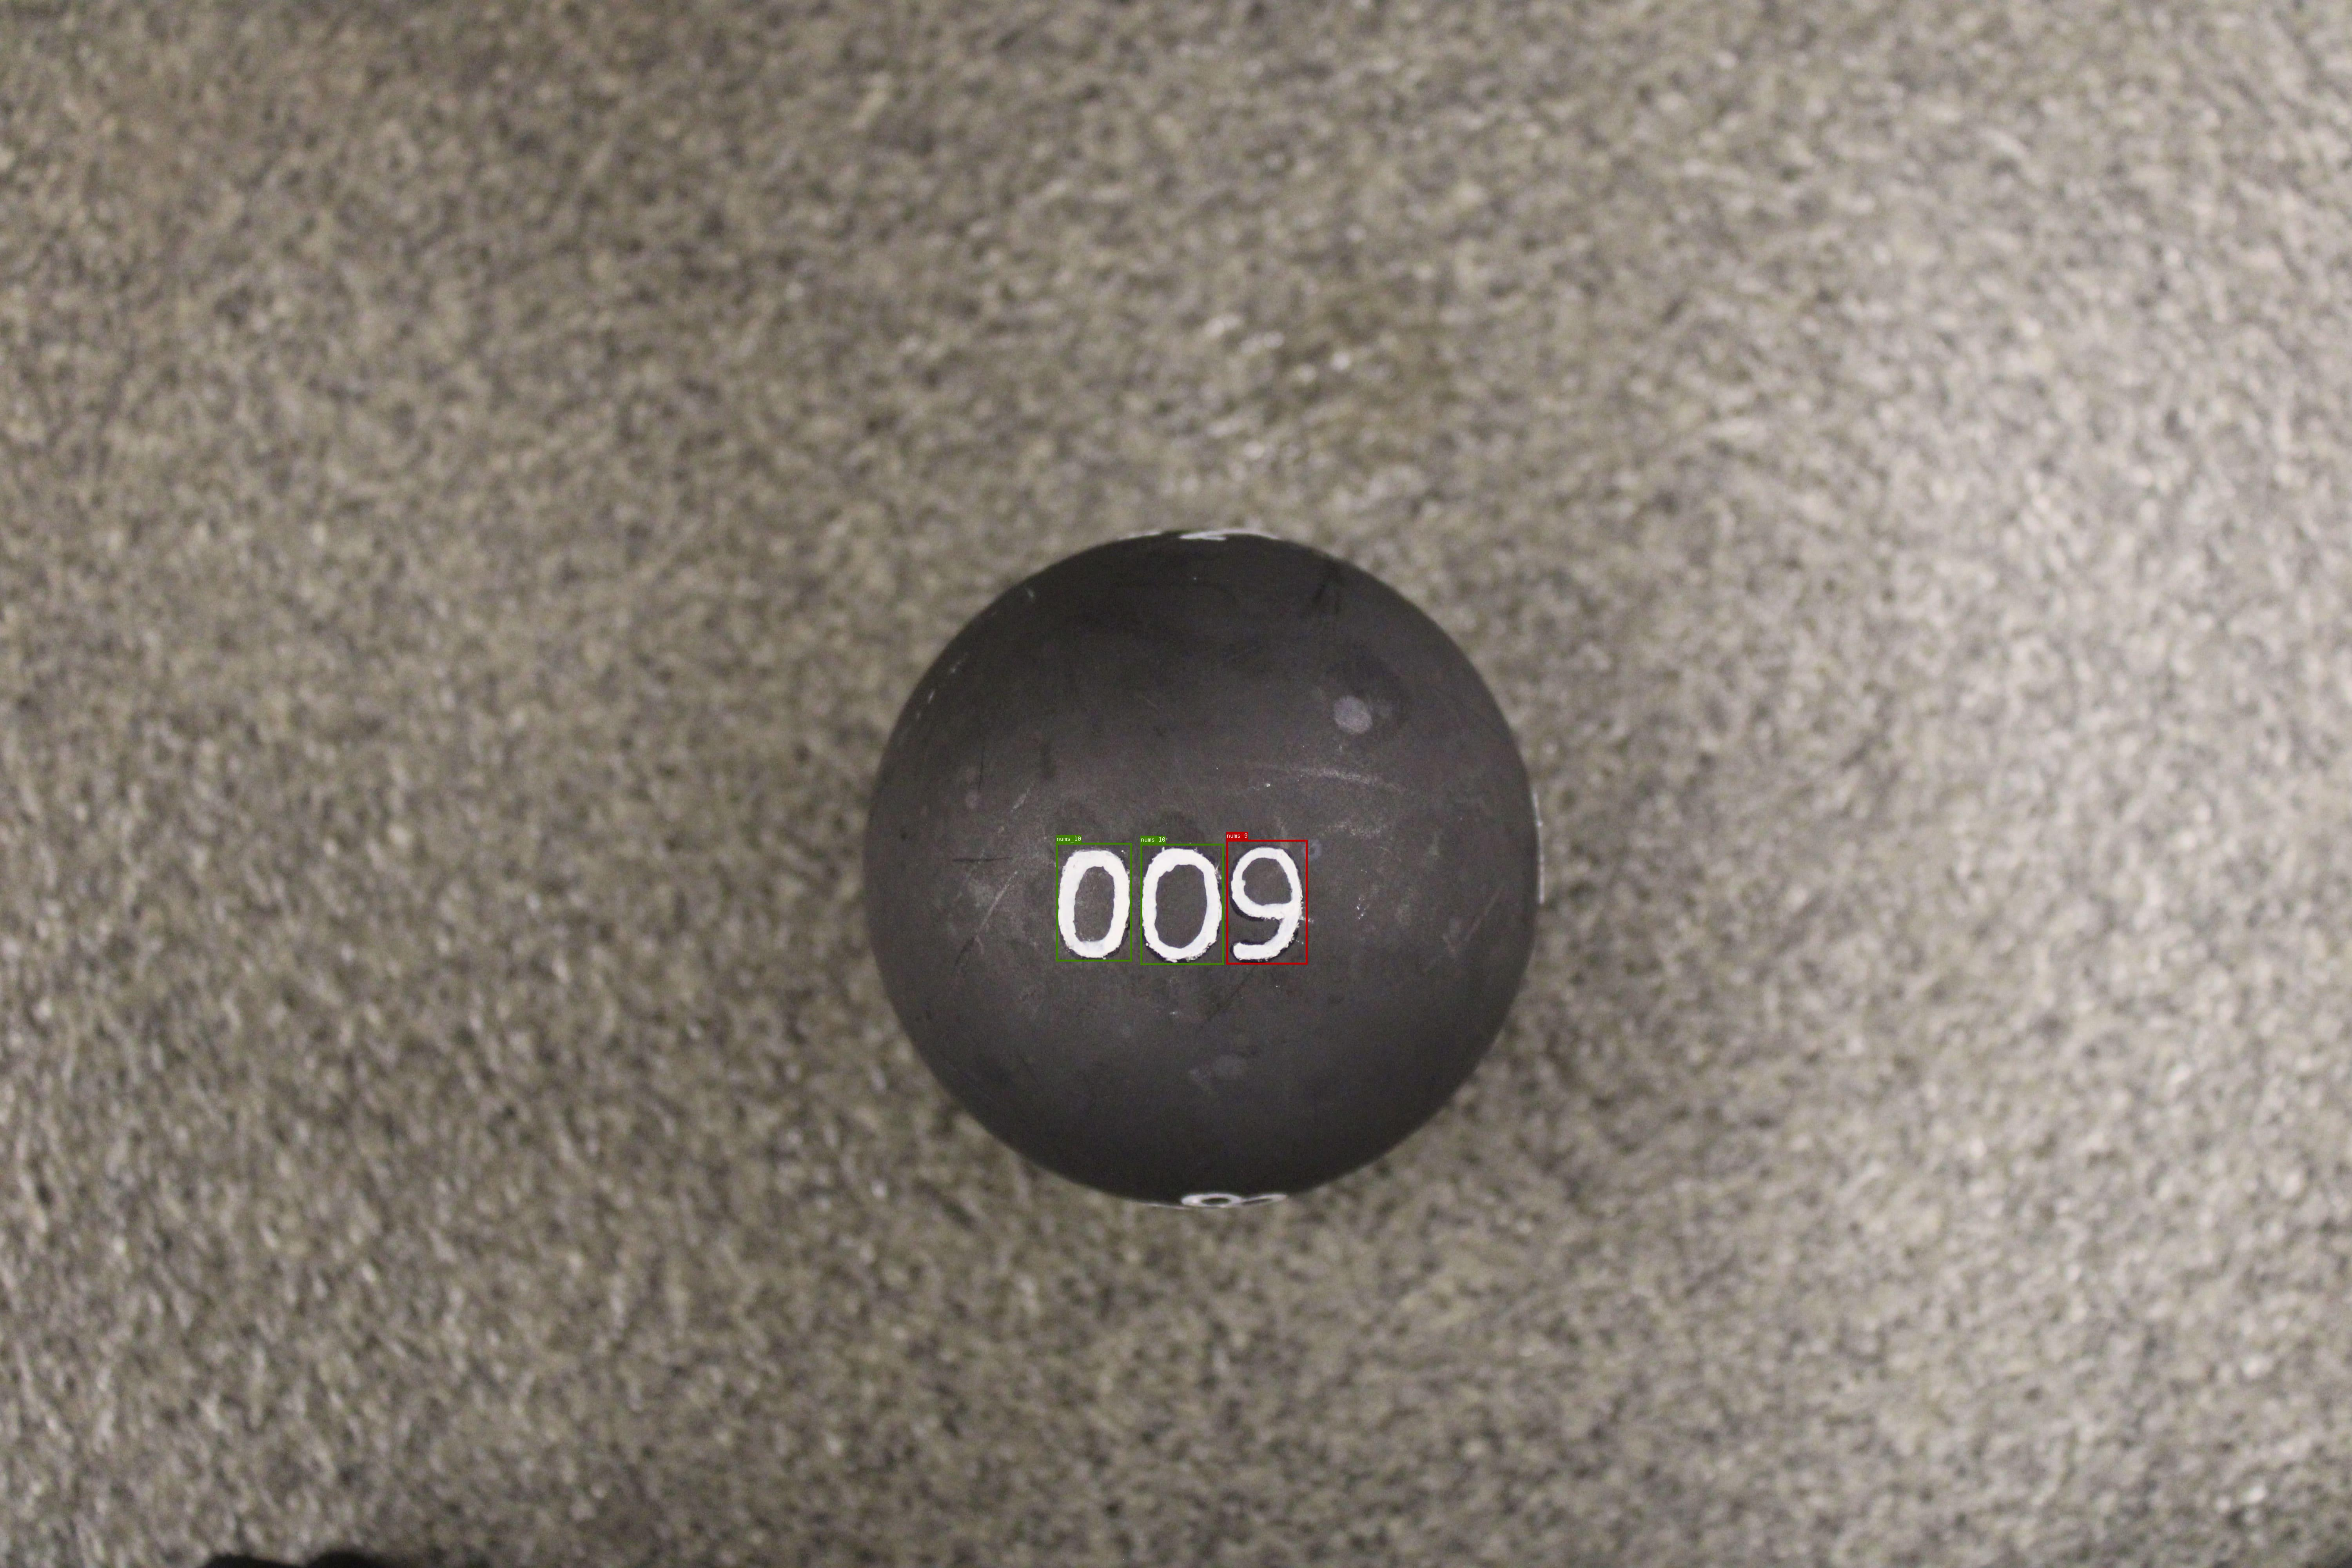nums_10: (1141, 843, 1223, 964), (1055, 843, 1132, 961)
nums_9: (1227, 840, 1307, 964)
